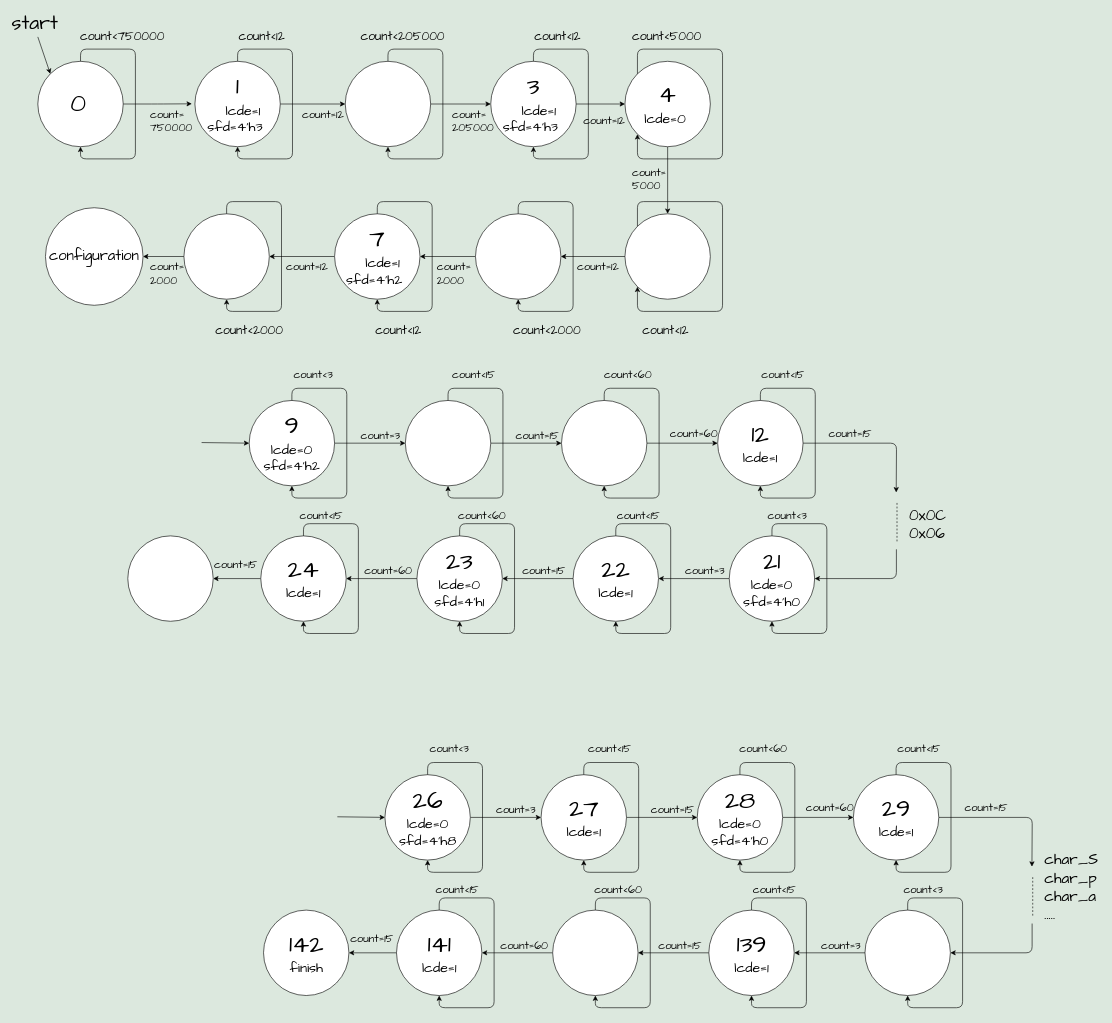
Some shapes in this 1112 by 1023 pixel diagram are drawn without their labels. Each missing label, with the centre of its shape:
10 lcde=1: (448,443)
11 lcde=0 sfd=4'h8: (604,443)
138 lcde=0 sfd=4'h7: (907,953)
140 lcde=0 sfd=4'h2: (595,953)
2 lcde=0: (388,104)
5 lcde=1 sfd=4'h3: (667,256)
6 lcde=0: (518,256)
8 lcde=0: (226,256)
data tranmission: (170,578)
